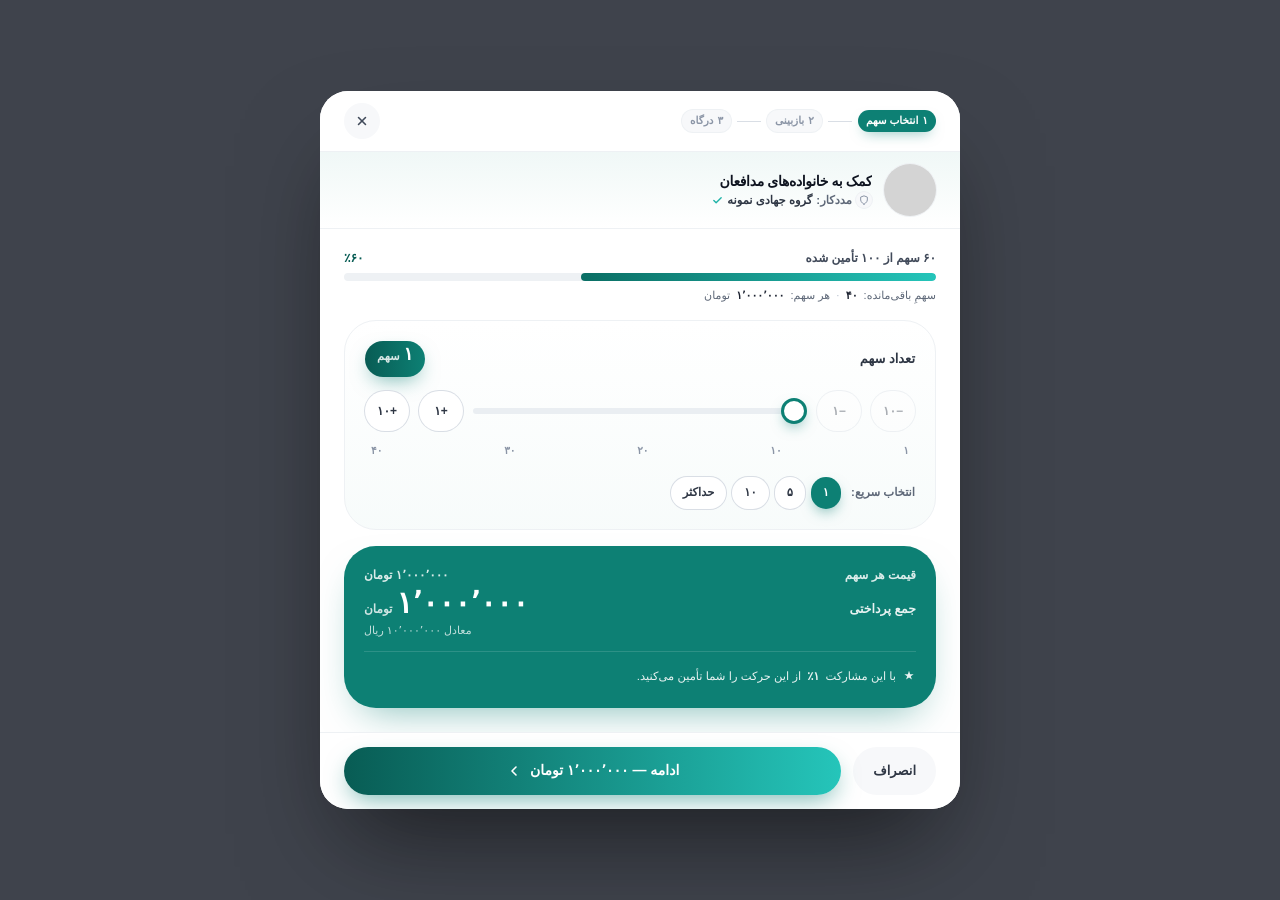
Test case: فلویِ کامل: انتخاب → بازبینی → انتقال › ۵۰۲ درگاه → پیامِ خطای دوستانه در ایستگاه بازبینی
The width and height of the screenshot is (1280, 900).
Click the button "ادامه — ۱٬۰۰۰٬۰۰۰ تومان" at (593, 771), box [344,747,841,795]
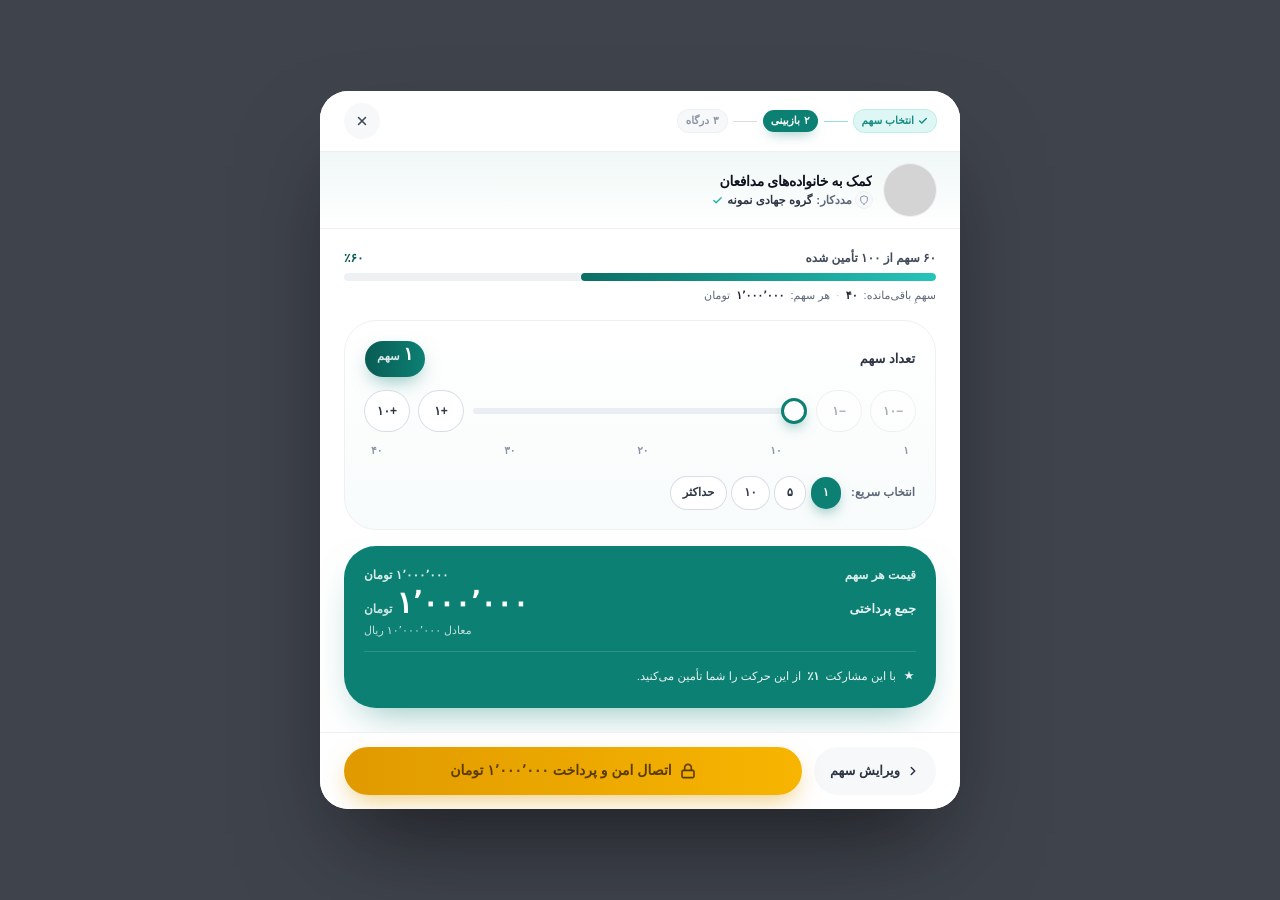
Click the button "اتصال امن و پرداخت ۱٬۰۰۰٬۰۰۰ تومان" at (573, 771), box [344,747,802,795]
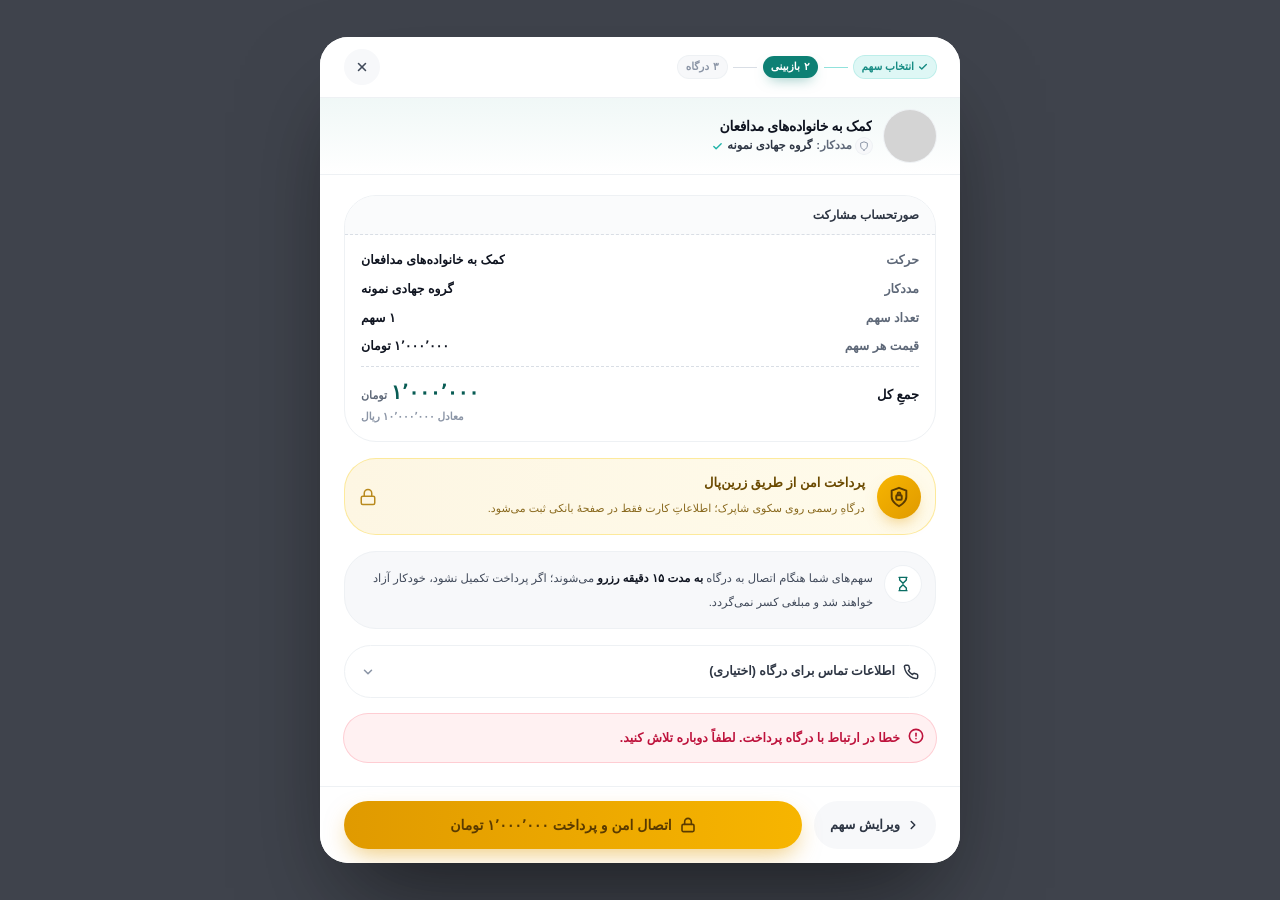
Check: the message shows "درگاه", box [620,731,900,745]
